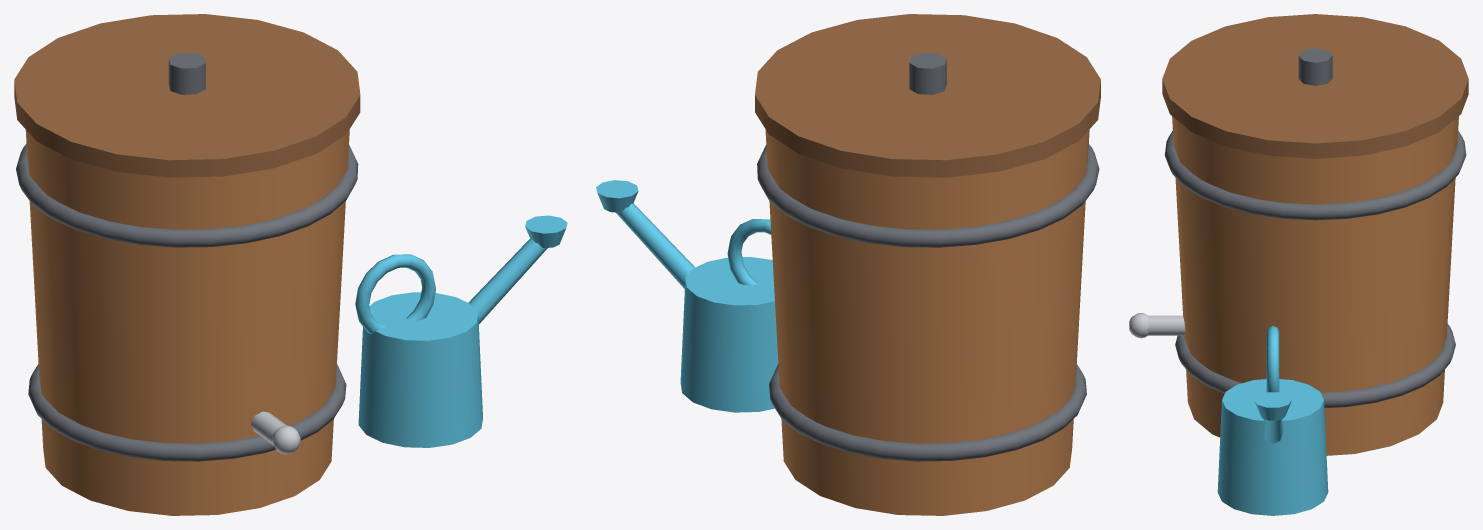
File: rainbarrel.glb
3 renders of one model, left to right at view 1: azimuth 30°, elevation 25°; view 2: azimuth 150°, elevation 25°; view 3: azimuth 270°, elevation 25°, orthographic. The views are drawn at different scales.
Size of the model in its own units: 1.62 by 1.22 by 1.08.
